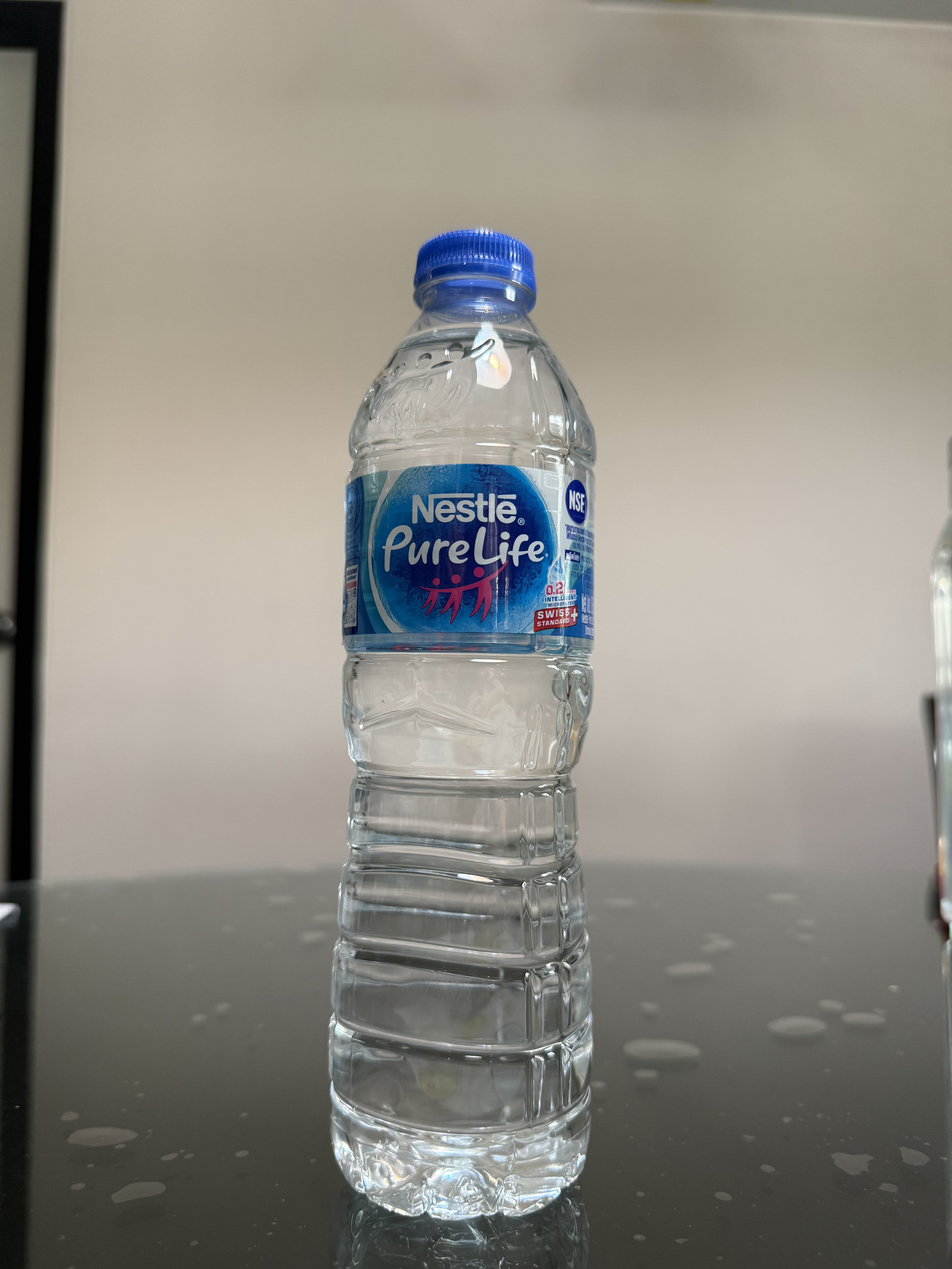closed_cap: (411, 224, 538, 313)
